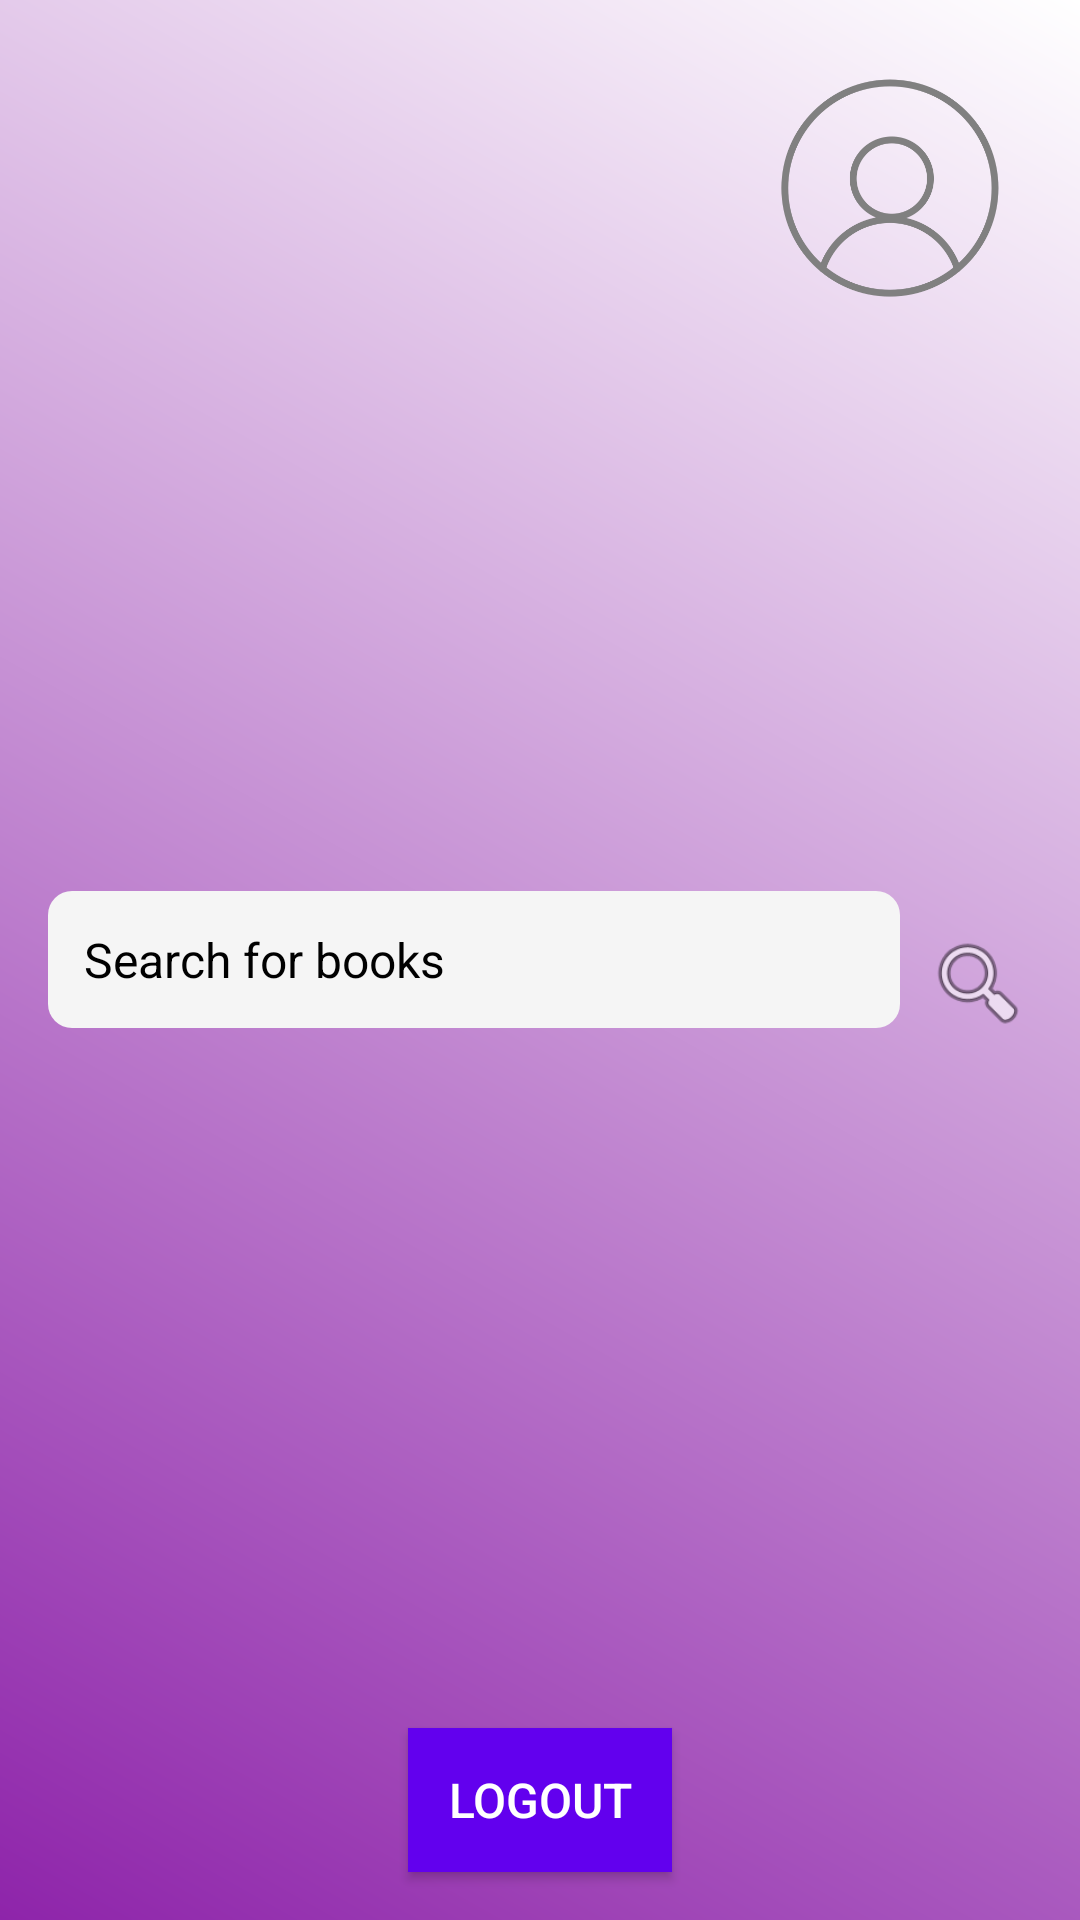

Named icons in this screenshot (1080x1920) and their centers, (x=x, y=y):
Profile: (x=890, y=188)
